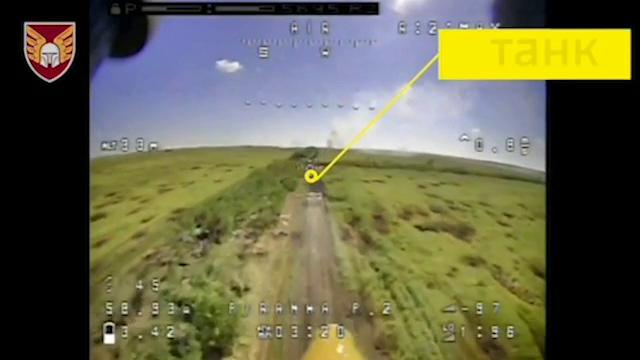tank: (304, 184, 324, 210)
